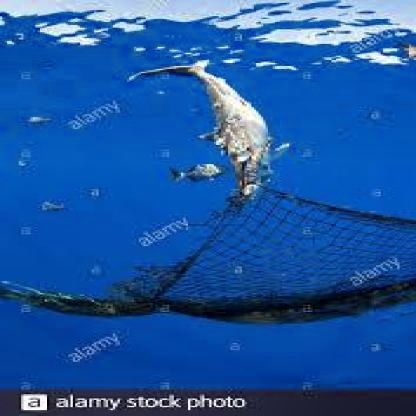net: (47, 193, 416, 328)
